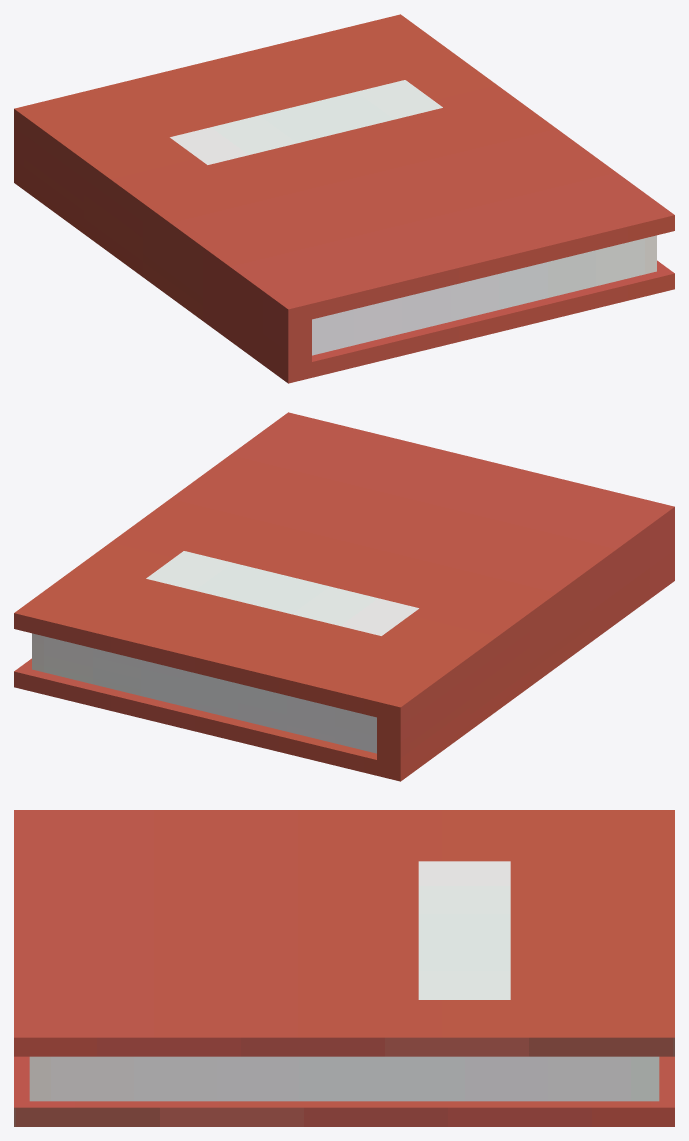
Rendered from 4S1nr7WmUxm.glb.
The picture shows the model from 3 angles, top to bottom: view 1: azimuth 30°, elevation 25°; view 2: azimuth 150°, elevation 25°; view 3: azimuth 270°, elevation 25°; orthographic projection. The views are drawn at different scales.
Parts seen in each view (by area): view 1: Cube.007_Cube.006; view 2: Cube.007_Cube.006; view 3: Cube.007_Cube.006.
Part boxes in pixels (bbox=[...]): Cube.007_Cube.006: bbox=[14, 14, 674, 383]; Cube.007_Cube.006: bbox=[14, 412, 674, 781]; Cube.007_Cube.006: bbox=[14, 810, 674, 1126].
Size of the model in its own units: 5.46 by 1 by 6.7.
Materials: 1 (1 with a texture image).
